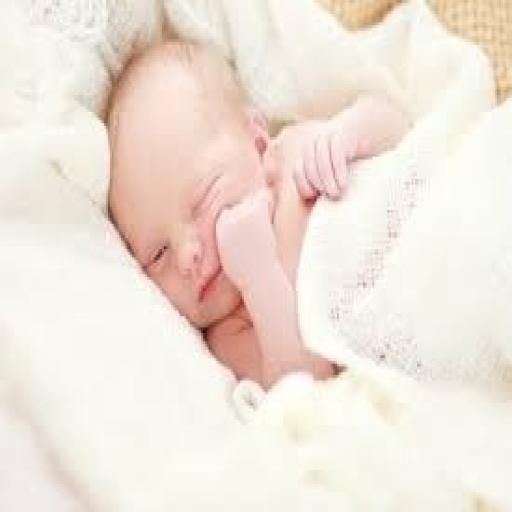sleeping: (99, 22, 510, 394)
